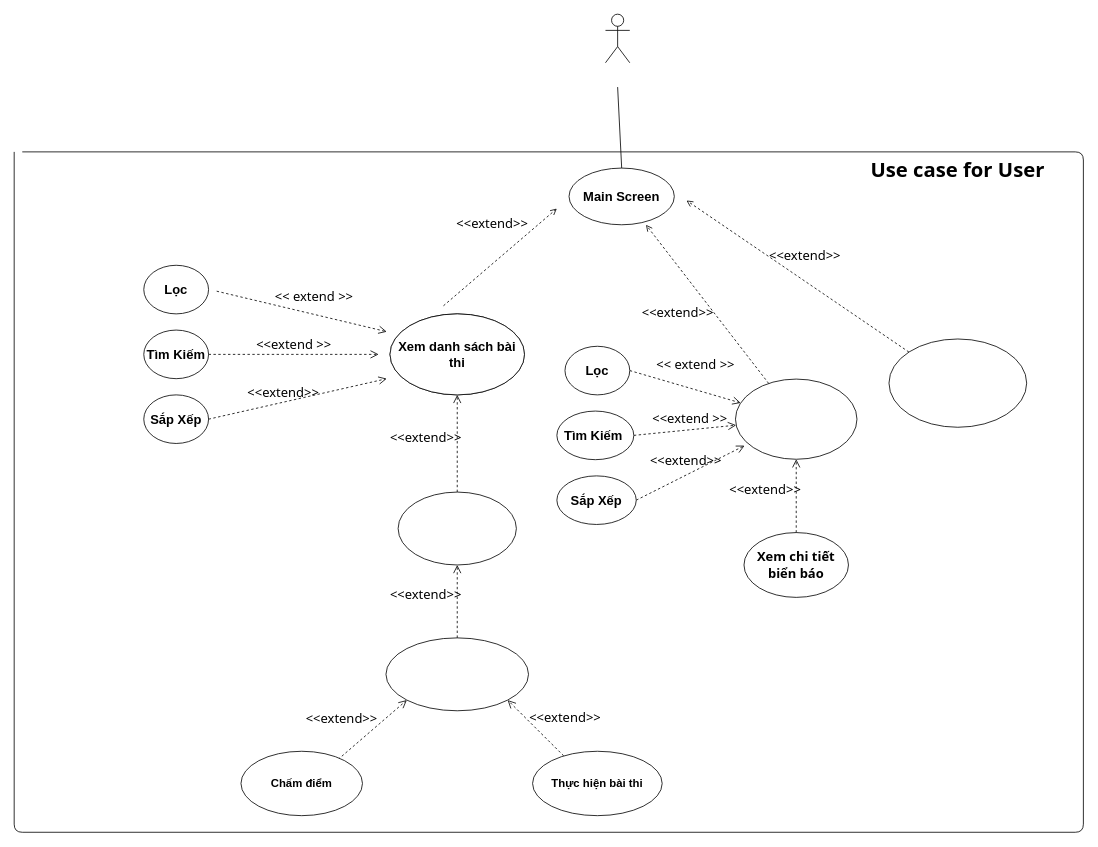
The diagram is 1098 pixels wide and 847 high, and some of its shapes have lost their labels. Each missing label, with the centre of its shape:
USER: point 617,38
Xem chi tiết bài thi: point 456,528
Xem danh sách biển báo: point 796,418
Xem danh sách câu hỏi: point 457,674
Xem danh sách lời khuyên: point 957,382
